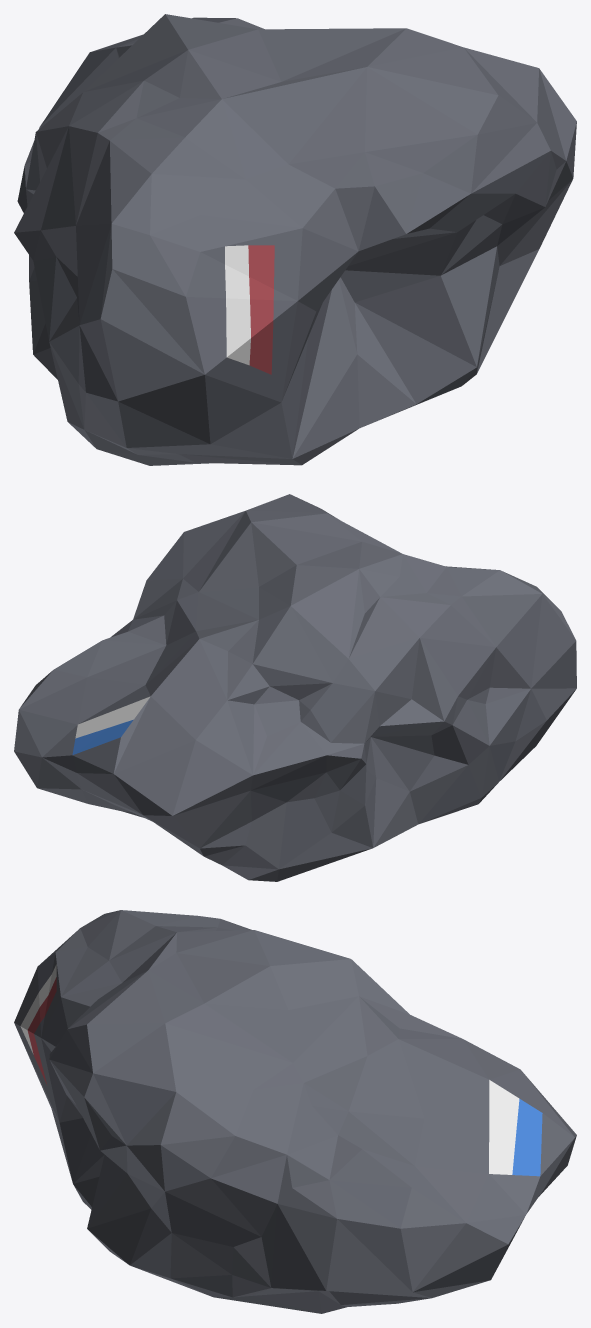
The picture shows the model from 3 angles, top to bottom: view 1: azimuth 30°, elevation 25°; view 2: azimuth 150°, elevation 25°; view 3: azimuth 270°, elevation 25°; orthographic projection. The views are drawn at different scales.
Visible parts, largest first — view 1: Cube.124; view 2: Cube.124; view 3: Cube.124.
Boxes of the visible parts, x1=… form: Cube.124: x1=14, y1=14, x2=576, y2=465; Cube.124: x1=14, y1=494, x2=576, y2=881; Cube.124: x1=14, y1=910, x2=576, y2=1313.
Size of the model in its own units: 4.14 by 2.67 by 4.34.
4 materials, 1 textured.
